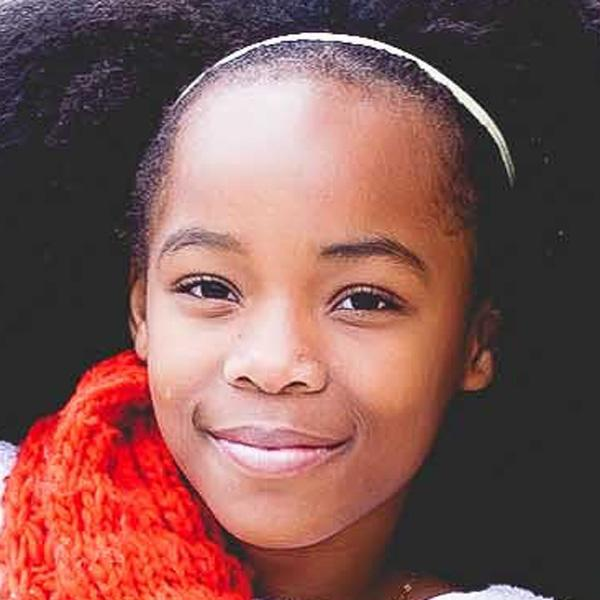Eyes: (316, 275, 415, 335), (165, 261, 246, 319)
